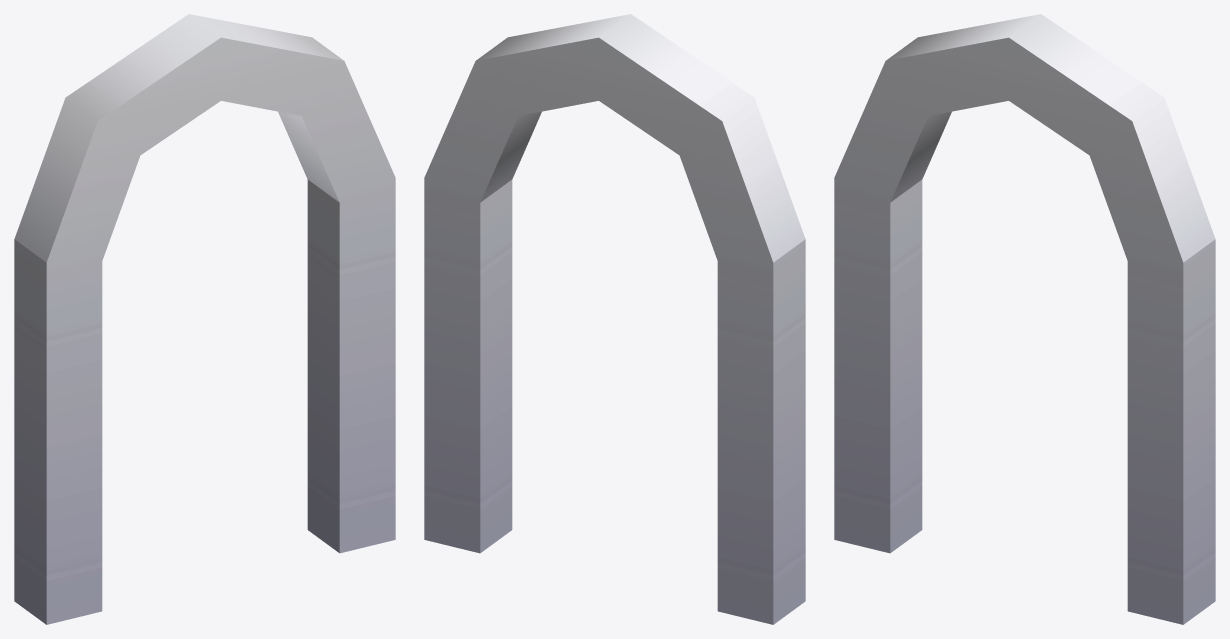
Rendered from window-white-round-top.glb.
The picture shows the model from 3 angles, left to right: view 1: azimuth 30°, elevation 25°; view 2: azimuth 150°, elevation 25°; view 3: azimuth 330°, elevation 25°; orthographic projection.
Parts seen in each view (by area): view 1: window-white-round-top; view 2: window-white-round-top; view 3: window-white-round-top.
Part boxes in pixels (left/top/right/bottom): window-white-round-top: left=14, top=14, right=395, bottom=624; window-white-round-top: left=424, top=14, right=805, bottom=624; window-white-round-top: left=834, top=14, right=1215, bottom=624.
Bounding box in the file's own units: 0.3125 × 0.4662 × 0.05.
Materials: 1 (1 with a texture image).
